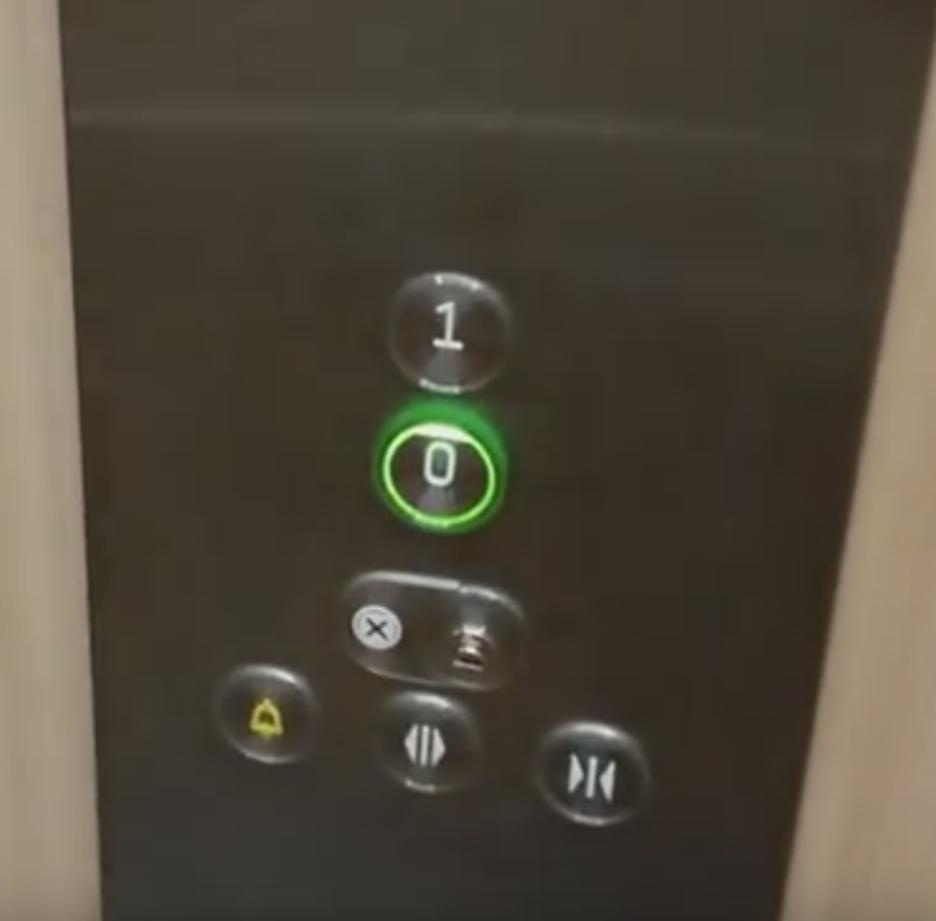0: (370, 400, 510, 537)
1: (383, 267, 517, 398)
alarm: (211, 660, 322, 776)
close: (529, 713, 653, 836)
open: (367, 692, 482, 803)
stop: (332, 563, 539, 692)
